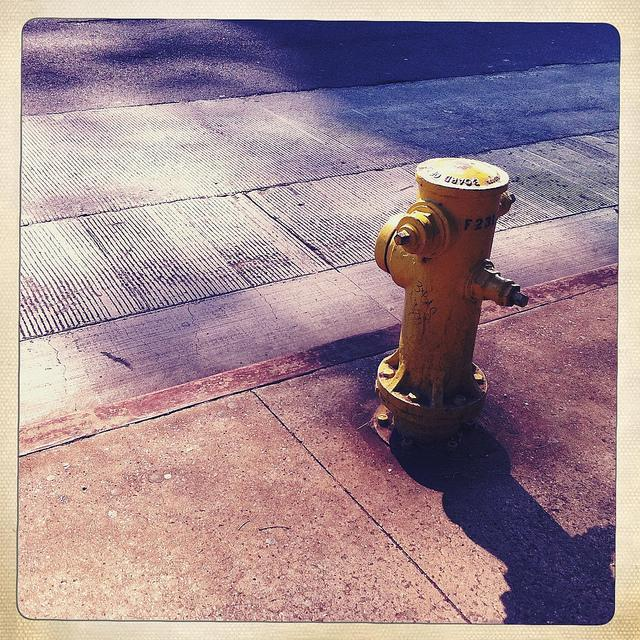fire_hydrant: (371, 157, 530, 454)
